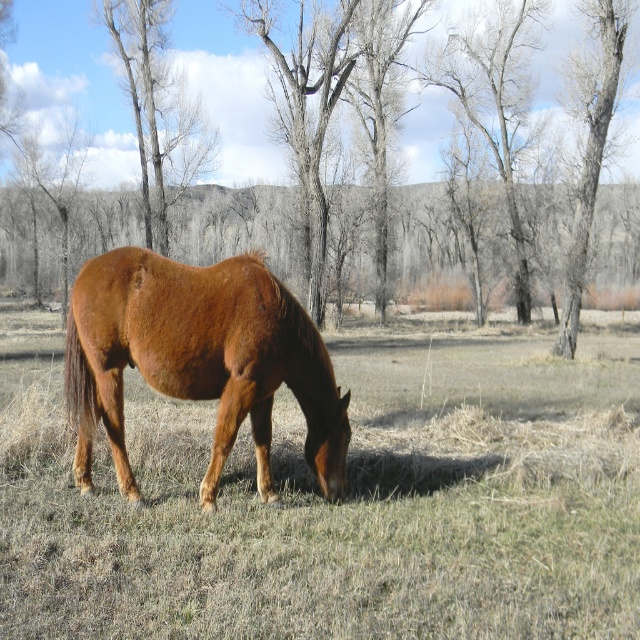Horse: (59, 243, 352, 514)
